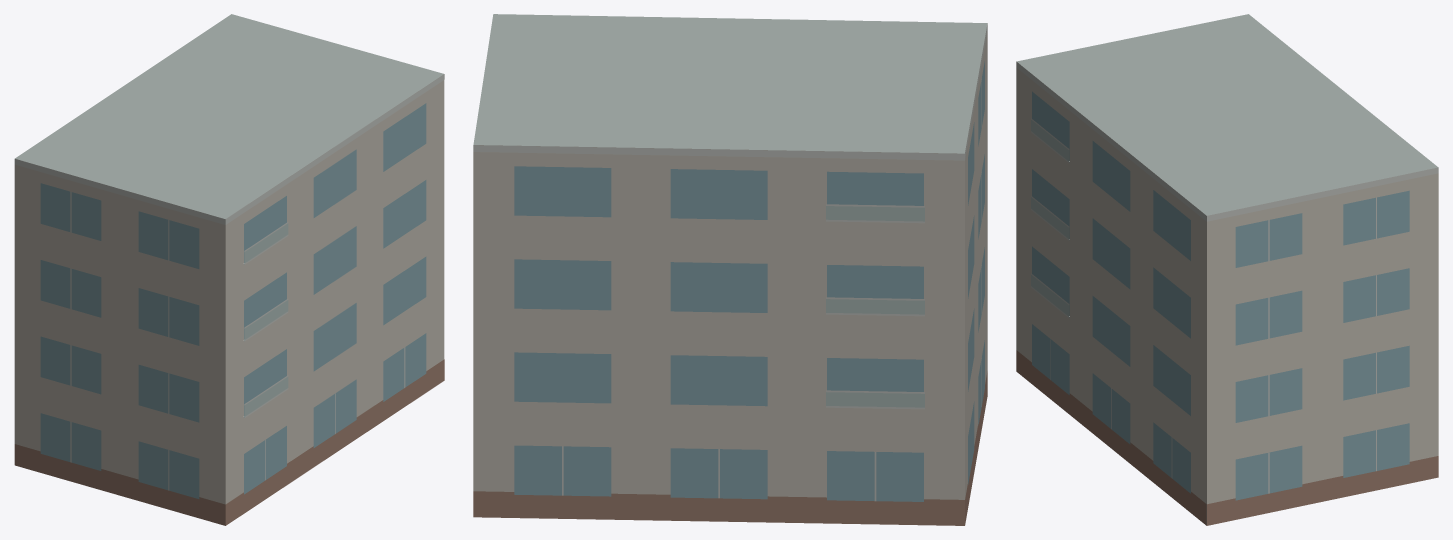
Rendered from survey-upis-32736718.glb.
3 views of the same model, side by side, from view 1: azimuth 30°, elevation 25°; view 2: azimuth 150°, elevation 25°; view 3: azimuth 270°, elevation 25° (orthographic). The views are drawn at different scales.
Parts seen in each view (by area): view 1: survey-upis-32736718.tmp; view 2: survey-upis-32736718.tmp; view 3: survey-upis-32736718.tmp.
Boxes of the visible parts, box(x1,y1,x2,y2) form: survey-upis-32736718.tmp: box(14, 14, 444, 525); survey-upis-32736718.tmp: box(473, 14, 987, 525); survey-upis-32736718.tmp: box(1016, 14, 1438, 525).
Bounding box in the file's own units: 17.88 × 12.8 × 15.8.
